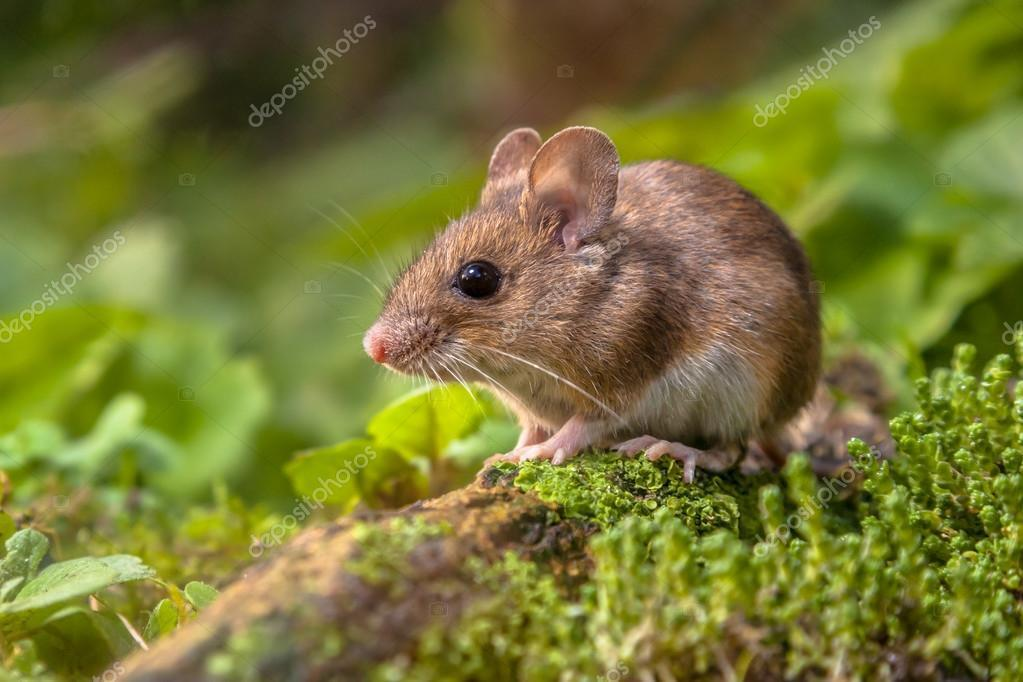rat: (362, 128, 820, 484)
